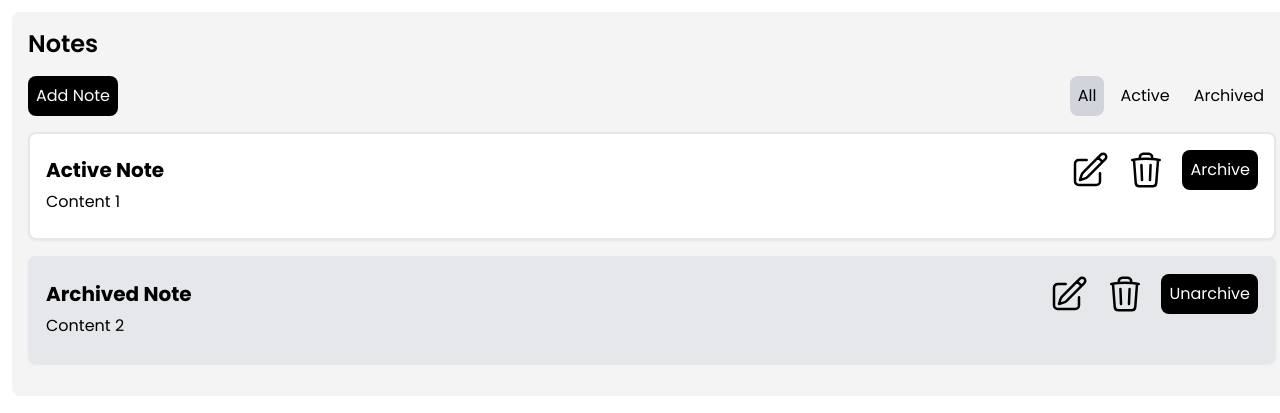
it: NoteList › filters notes based on archive status
Click the button "Active".
click(1145, 96)  # box [1112,76,1178,116]
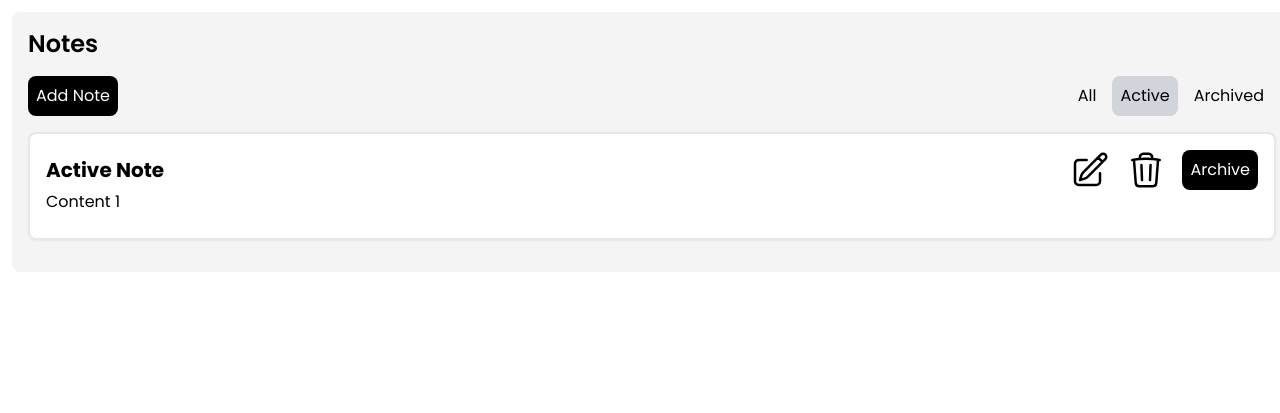
Expected: the text "Active Note" is shown, [46,156,164,184]
Now the number of elements with class "note-item" is 1, box [28,132,1276,240]
Now the text "Archived Note" is gone
Click the button "Archived".
click(1229, 96)  # box [1186,76,1272,116]
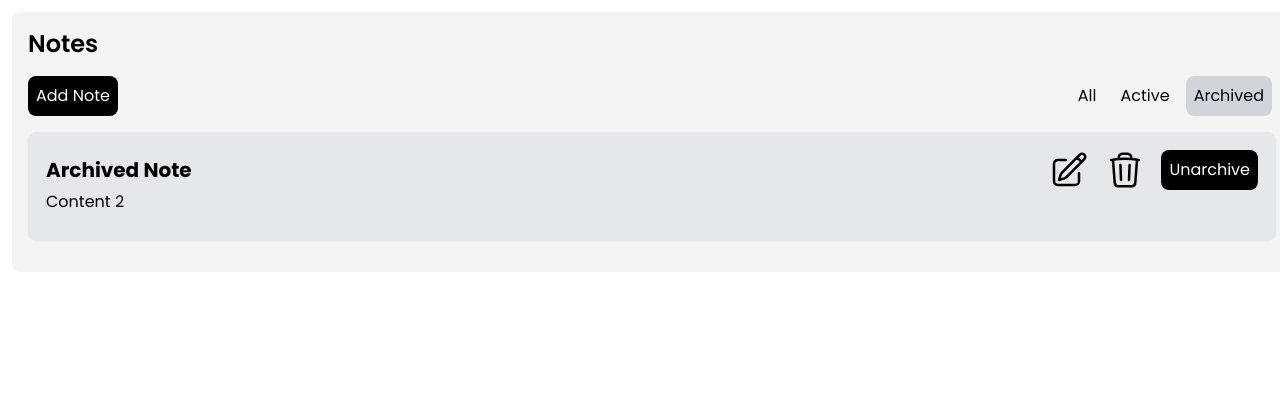
Now the number of elements with class "note-item" is 1, box [28,132,1276,240]
Now the text "Archived Note" is shown, box [46,156,192,184]
Now the text "Active Note" is gone
